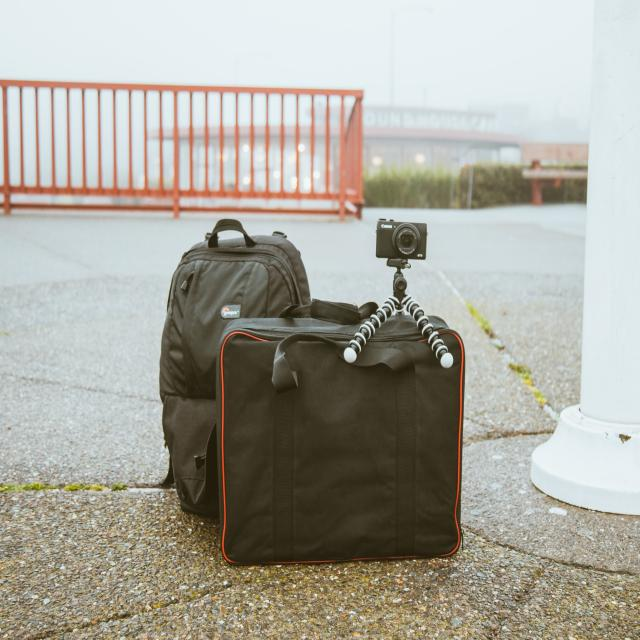backpack: (210, 297, 468, 567), (167, 223, 318, 525)
